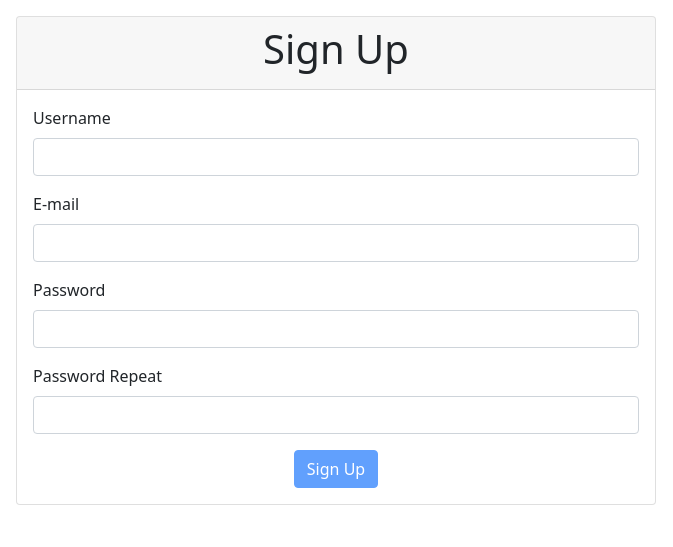
Test case: >SignUp Page › Interactions › should displays Username cannot be null for username
This screenshot has width=673, height=547.
In the field labelled "Username": (336, 157) [33,138,639,176], type "user1"
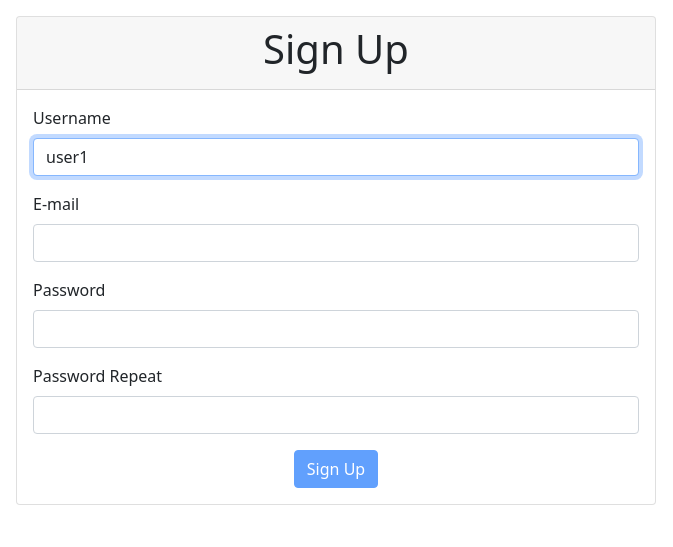
In the field labelled "E-mail": (336, 243) [33,224,639,262], type "user1@mail.com"
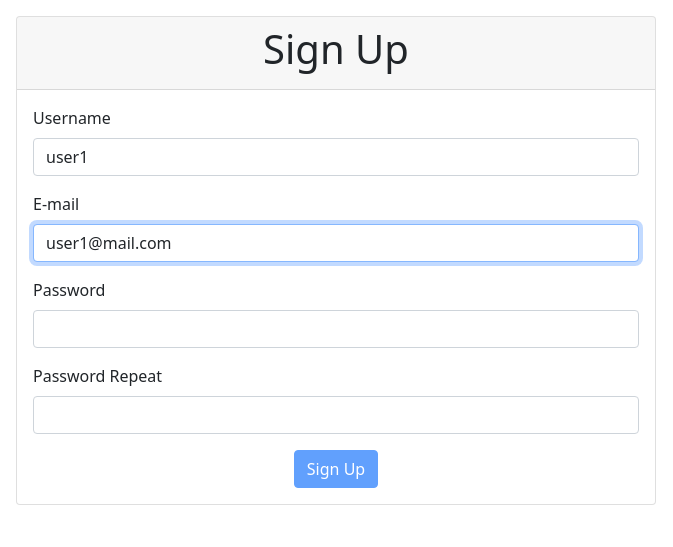
In the password field labelled "Password": (336, 329) [33,310,639,348], type "Password"
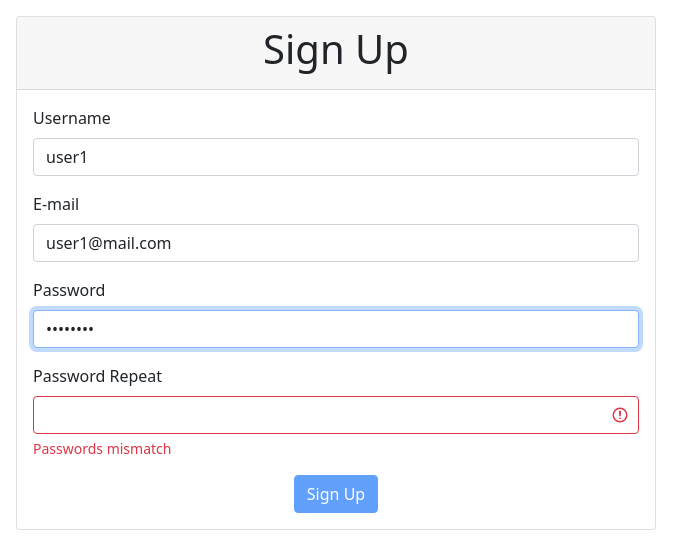
In the password field labelled "Password Repeat": (336, 415) [33,396,639,434], type "Password"
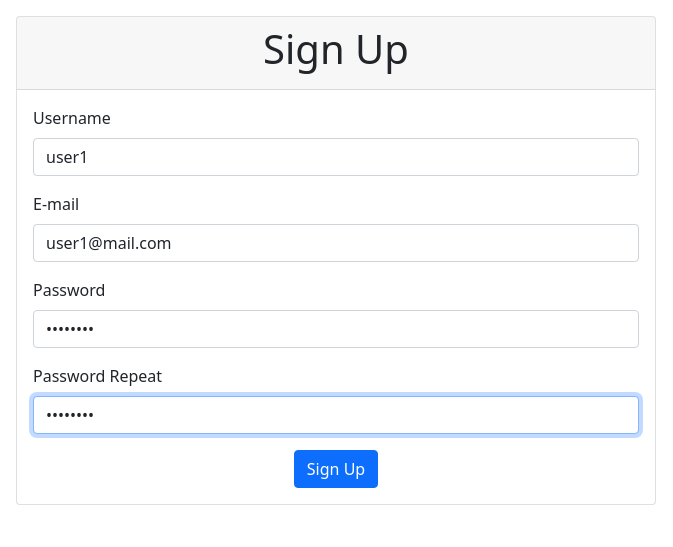
Click the button "Sign Up": (336, 469) [294,450,378,488]
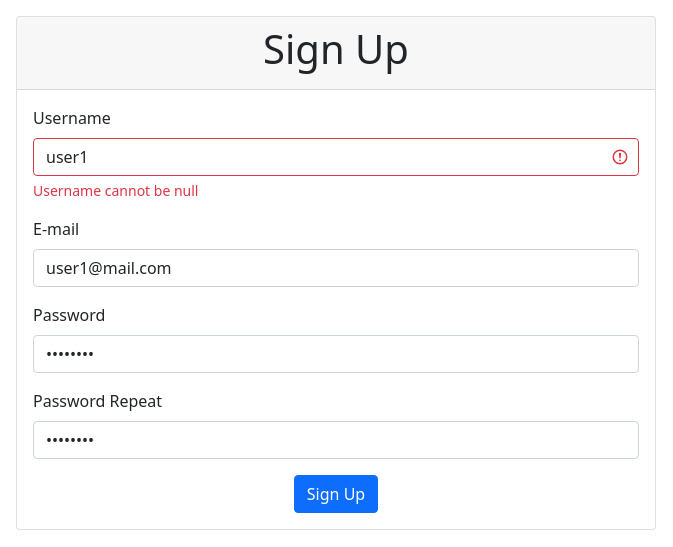
Expected: the text "Username cannot be null" is shown, [33,181,198,200]
